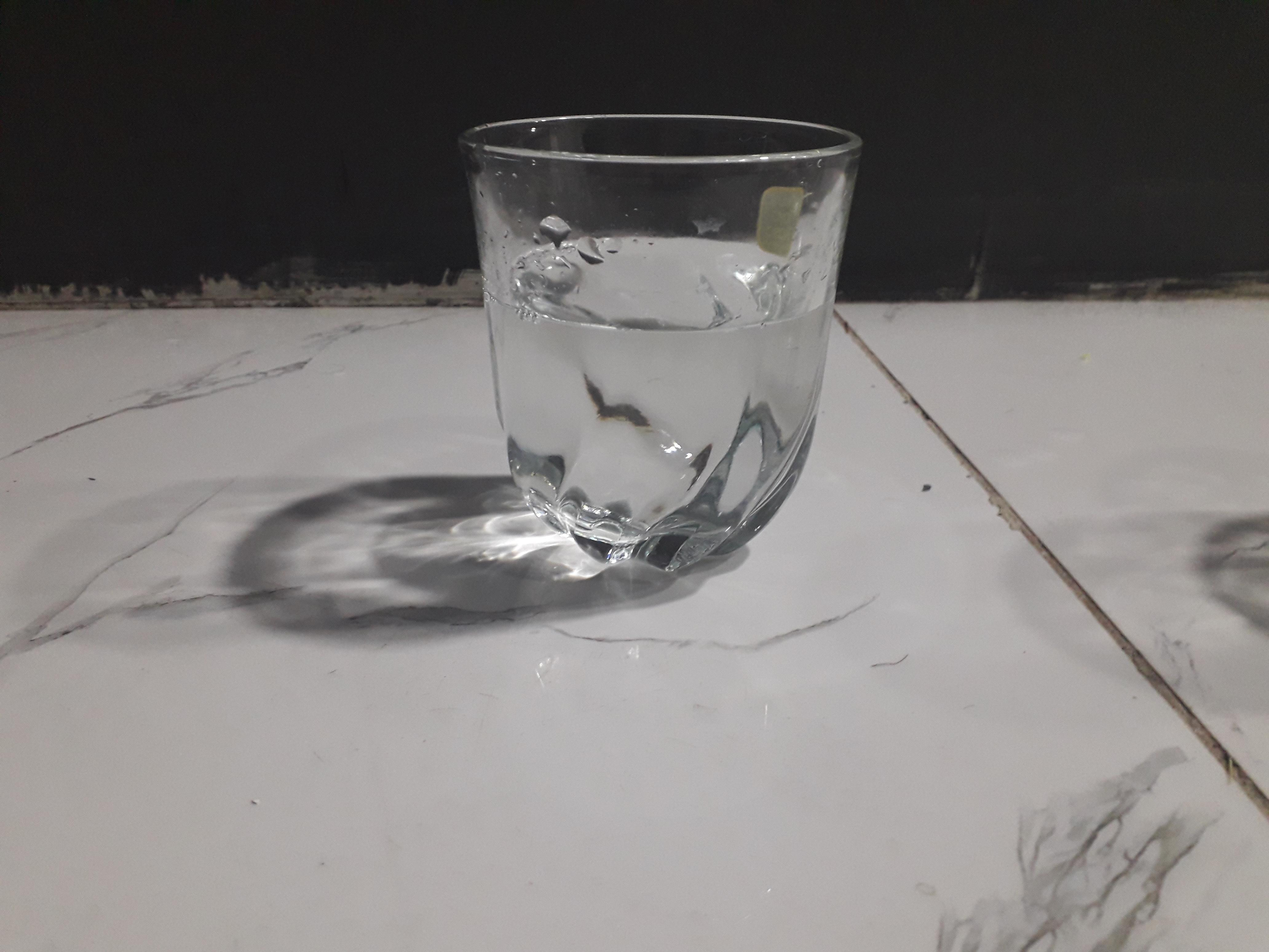glass-normal: (465, 109, 871, 577)
